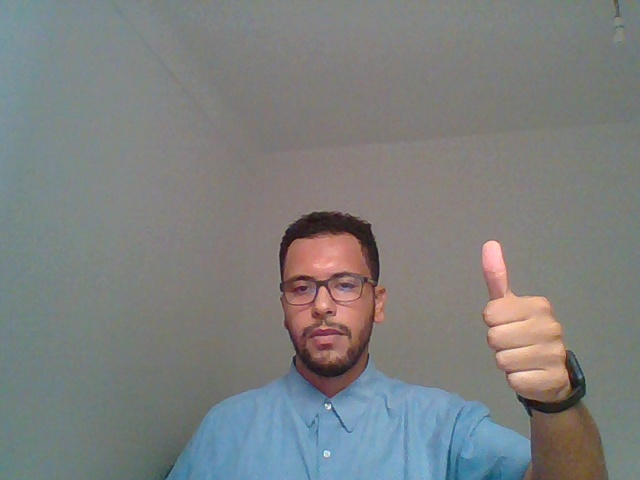ok: (445, 217, 607, 480)
